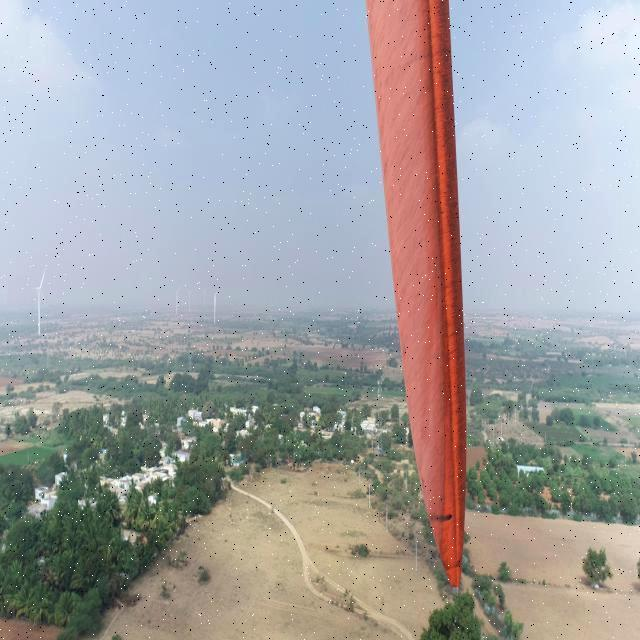Dirt: (366, 0, 469, 584)
Pin Hole: (441, 510, 456, 526)
